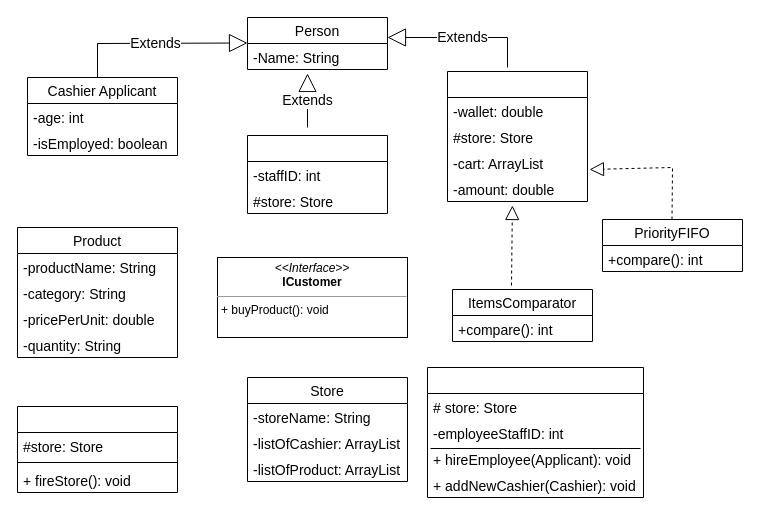
Some shapes in this 760 by 518 pixel diagram are drawn without their labels. The box of each missing label's shape, as (x1, y1, x2, y2) in pixels:
Cashier: (246, 134, 388, 214)
Customer: (446, 70, 588, 202)
fileReader: (16, 406, 178, 492)
Manager: (426, 366, 644, 498)
